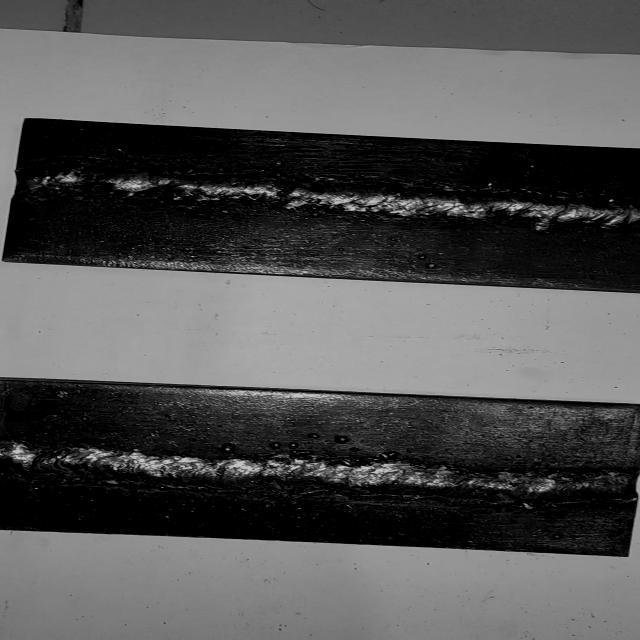Defect: (6, 158, 110, 208)
Welding Line: (28, 162, 640, 226), (4, 445, 634, 500)
Workpiece: (1, 379, 636, 560), (12, 114, 640, 294)
